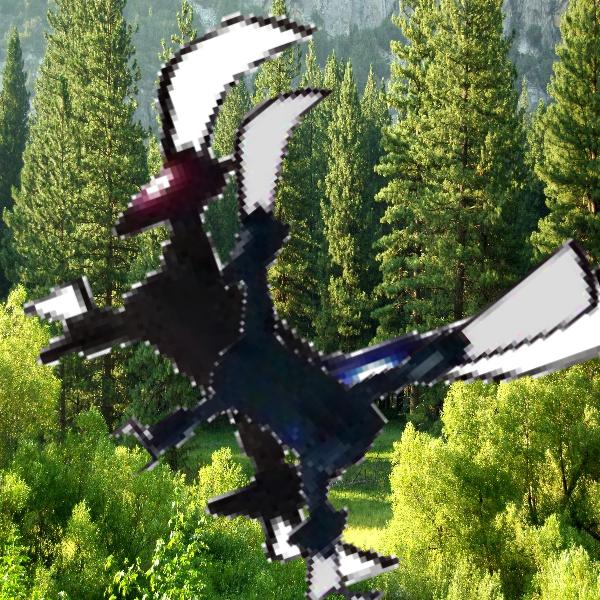drone: (1, 1, 600, 600), (81, 75, 591, 585)
